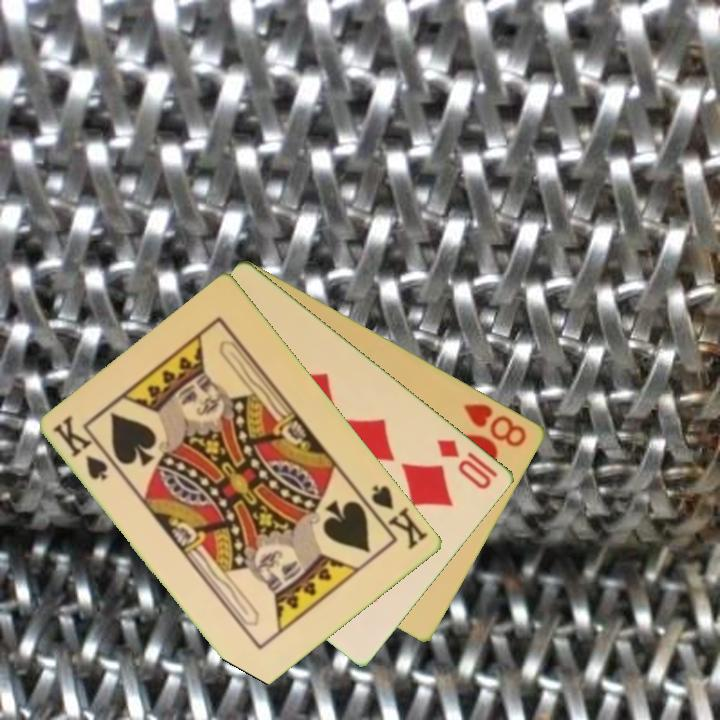10d: (434, 435, 495, 493)
8h: (460, 399, 531, 450)
Ks: (359, 481, 432, 553), (49, 412, 111, 483)
